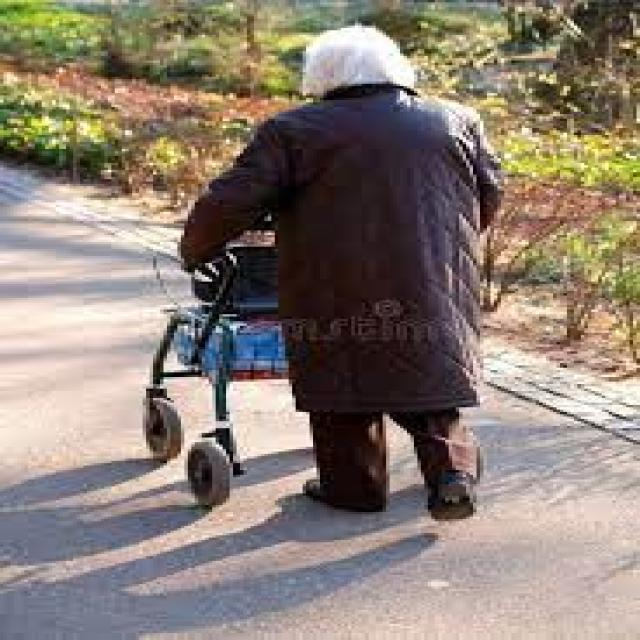idoso em pe: (149, 14, 523, 517)
